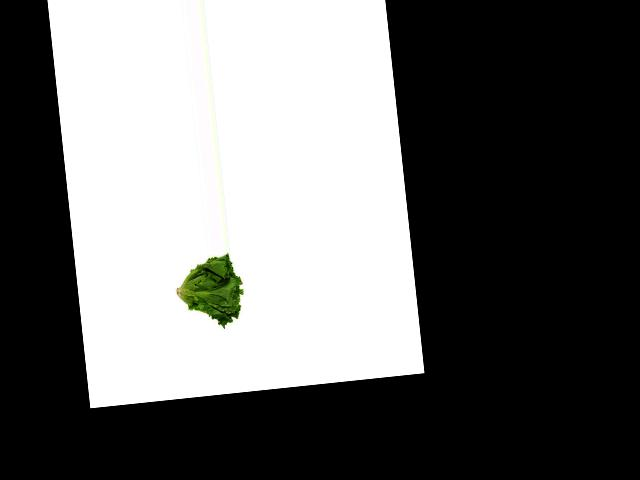lettuce: (171, 251, 249, 329)
